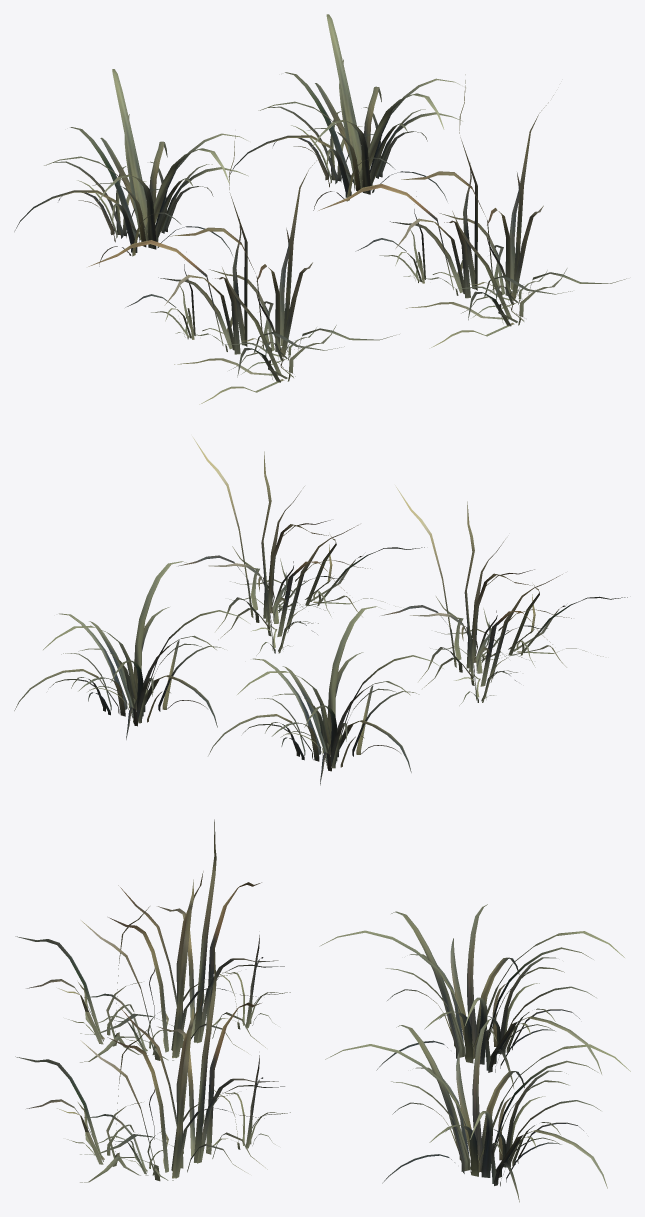
3 renders of one model, top to bottom at view 1: azimuth 30°, elevation 25°; view 2: azimuth 150°, elevation 25°; view 3: azimuth 270°, elevation 25°, orthographic. The views are drawn at different scales.
Parts seen in each view (by area): view 1: Dead Grass.Shape, Dead Grass_dup_2.Shape, KZT Grass.Shape, KZT Grass_dup_2.Shape; view 2: KZT Grass_dup_2.Shape, KZT Grass.Shape, Dead Grass.Shape, Dead Grass_dup_2.Shape; view 3: Dead Grass_dup_2.Shape, Dead Grass.Shape, KZT Grass.Shape, KZT Grass_dup_2.Shape.
Boxes of the visible parts, x1,y1,x2,y2 form: Dead Grass.Shape: (88, 135, 399, 404); Dead Grass_dup_2.Shape: (318, 74, 626, 348); KZT Grass.Shape: (229, 14, 462, 210); KZT Grass_dup_2.Shape: (14, 69, 248, 266); KZT Grass_dup_2.Shape: (208, 606, 443, 785); KZT Grass.Shape: (14, 561, 249, 739); Dead Grass.Shape: (381, 485, 627, 705); Dead Grass_dup_2.Shape: (178, 436, 424, 655); Dead Grass_dup_2.Shape: (15, 940, 290, 1182); Dead Grass.Shape: (15, 819, 290, 1062); KZT Grass.Shape: (325, 1017, 630, 1202); KZT Grass_dup_2.Shape: (319, 904, 624, 1088).
Size of the model in its own units: 1.16 by 0.4931 by 1.21.
Materials: 4 (4 with a texture image).
